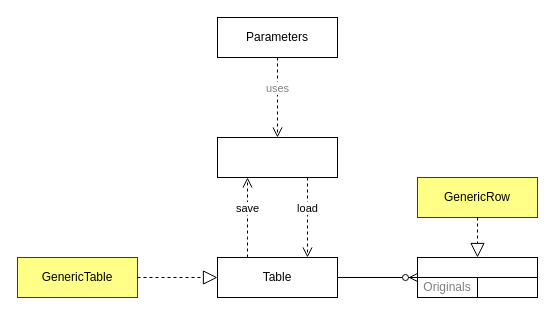
This 555x315 diagram has some shape labels left out. Here are the shapes that lost their labels. From the top down, the centre of each, then its label:
point 277,157: Connection
point 477,267: Row
point 507,287: Changes
